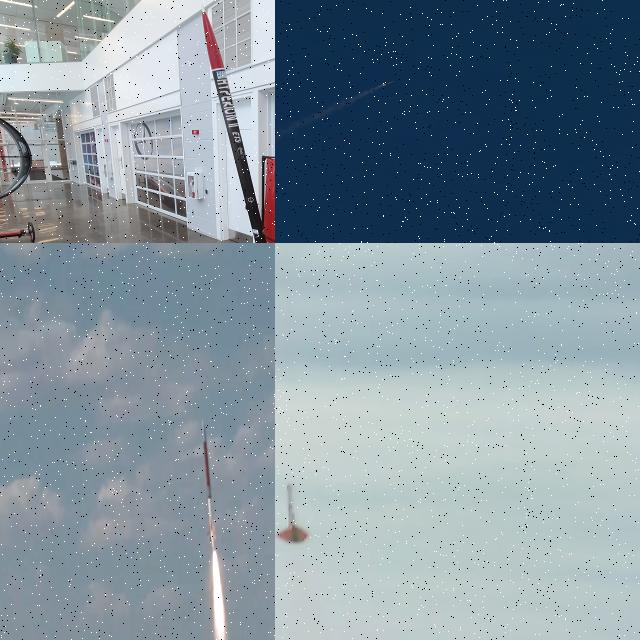Rocket: (202, 5, 267, 243), (276, 482, 310, 544), (202, 421, 216, 553), (381, 79, 395, 87)
